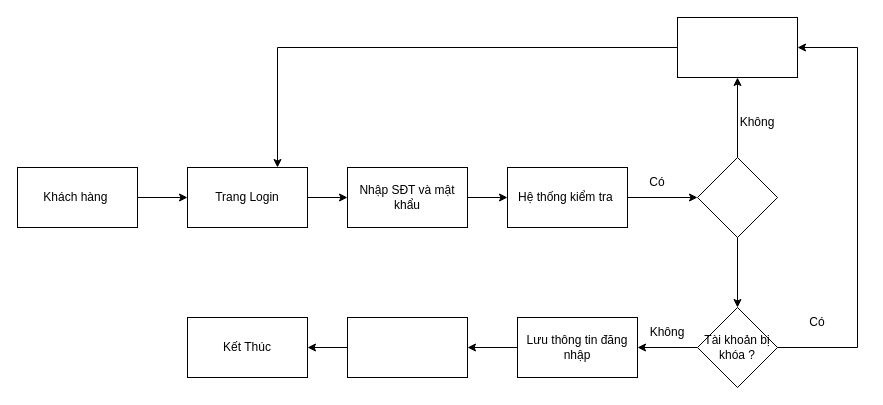
This 883x405 diagram has some shape labels left out. Here are the shapes that lost their labels. From the top down, the centre of each, then its label:
At [737,47]: "Thông báo lỗi".
At [737,197]: "Hợp Lệ ?".
At [407,347]: "Trang Chủ".
